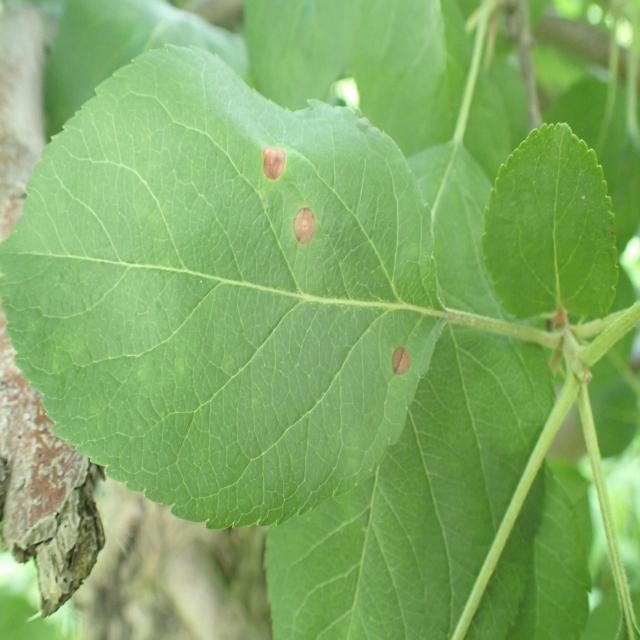frog-eye-leaf-spot: (0, 43, 445, 531)
